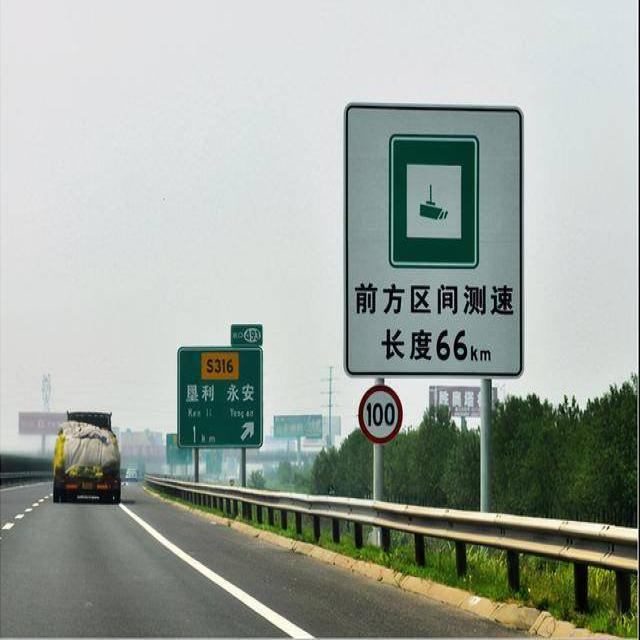speed limit 100: (357, 384, 403, 445)
